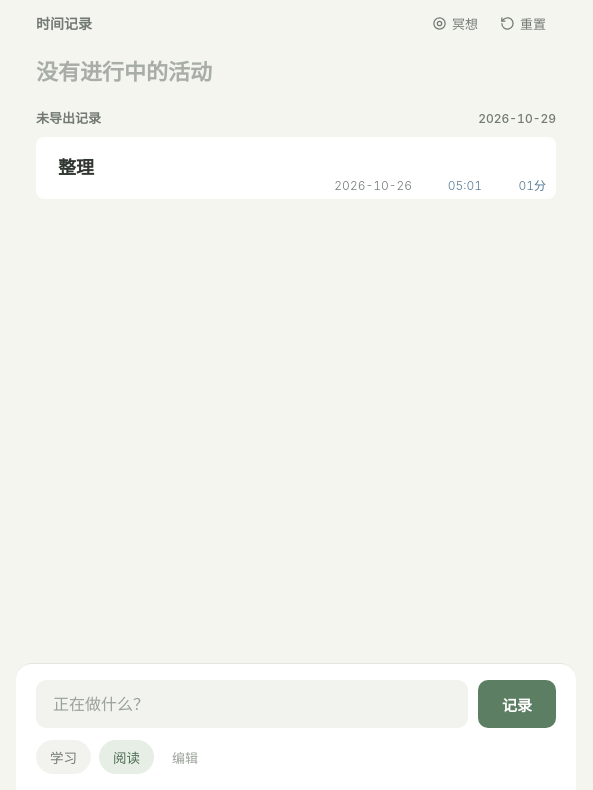
Test: 时间记录界面 › 休息后第一次记录提示导出重置，确认后先导出再重置再记录
expect the button "学习" is shown: met, box [36,740,91,774]
In the field named "活动名称": (252, 704) [36,680,468,728], type "阅读"
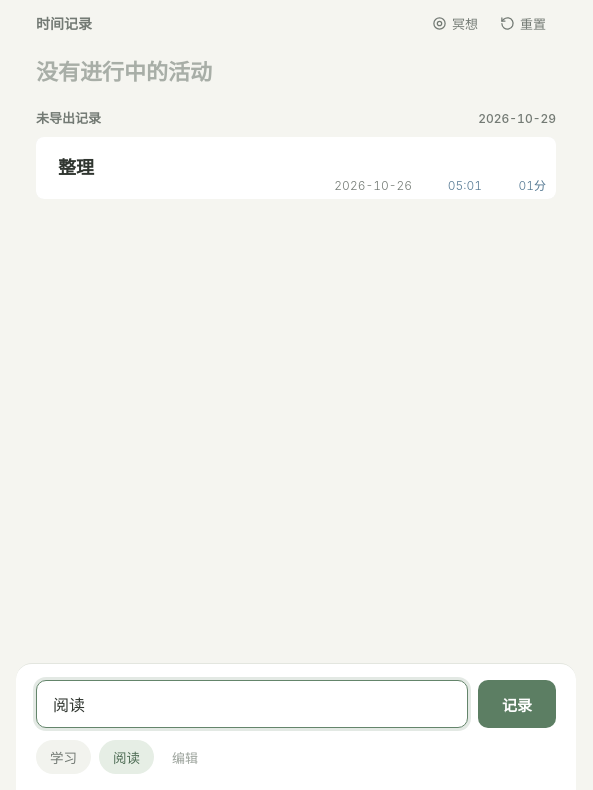
Click the button "记录": (517, 704) [478,680,556,728]
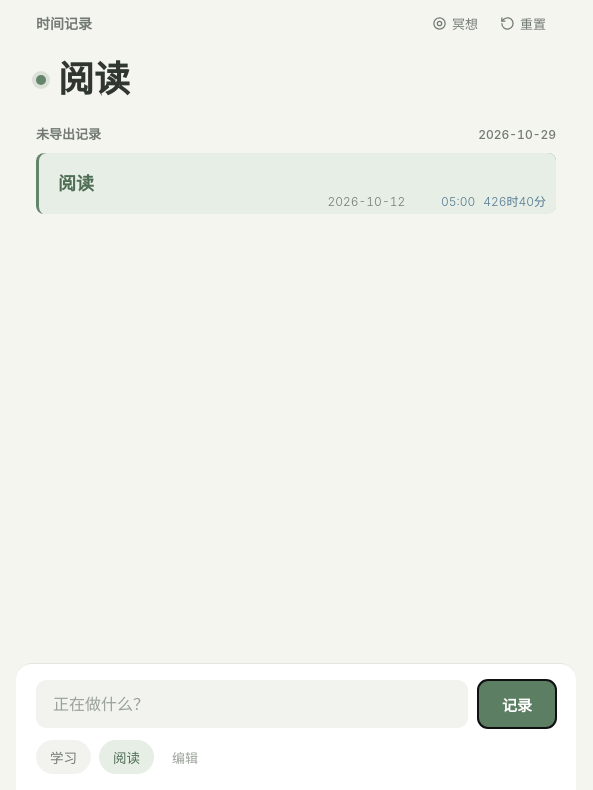
expect the 1st text "阅读" is shown: met, box [58,60,130,100]
